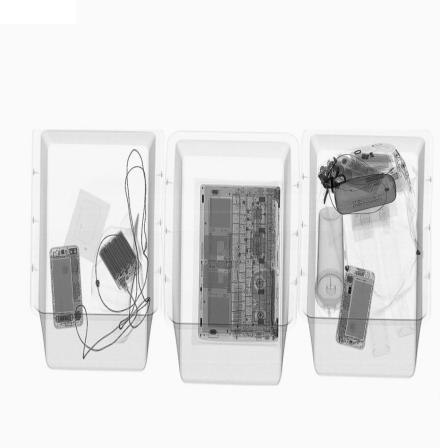Powerbank: (97, 229, 144, 292)
